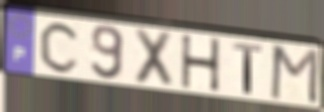9: (89, 24, 125, 83)
C: (38, 20, 83, 76)
H: (179, 34, 223, 95)
M: (267, 43, 321, 107)
T: (231, 40, 264, 97)
X: (132, 26, 175, 91)
